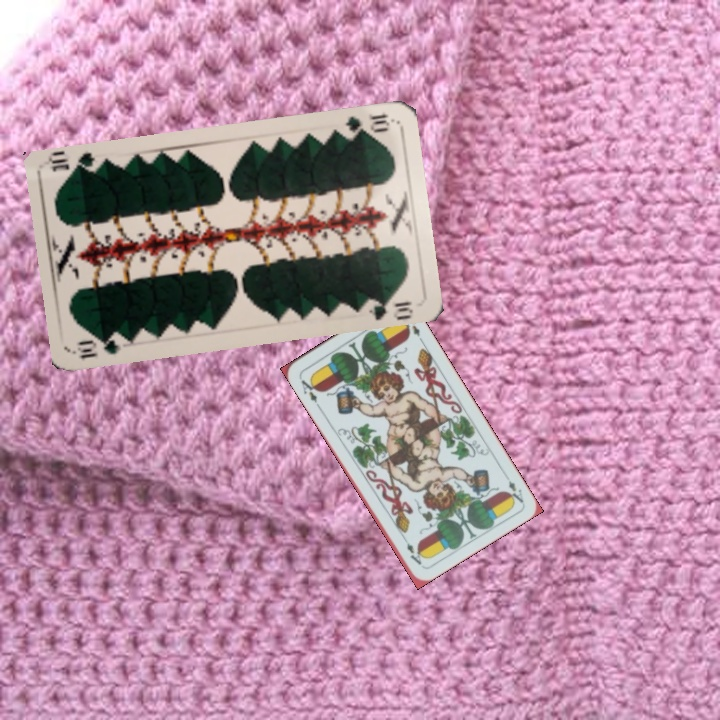EA: (295, 373, 322, 410), (502, 475, 526, 506)
G10: (73, 331, 131, 362), (341, 109, 392, 138)
